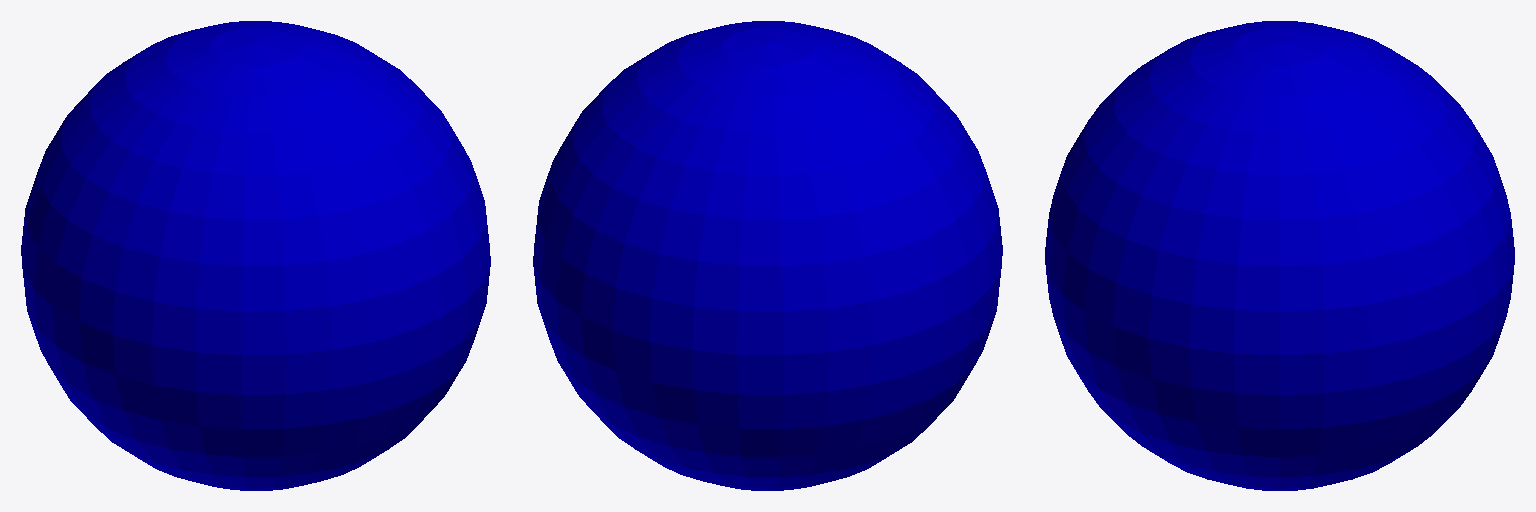
Rendered from bullet.obj.
3 renders of one model, left to right at view 1: azimuth 30°, elevation 25°; view 2: azimuth 150°, elevation 25°; view 3: azimuth 270°, elevation 25°, orthographic.
Visible parts, largest first — view 1: Sphere; view 2: Sphere; view 3: Sphere.
Part boxes in pixels (x1,y1,x2,y2): Sphere: (21,21,490,490); Sphere: (533,21,1002,490); Sphere: (1045,21,1514,490).
Bounding box in the file's own units: 2 × 2 × 2.